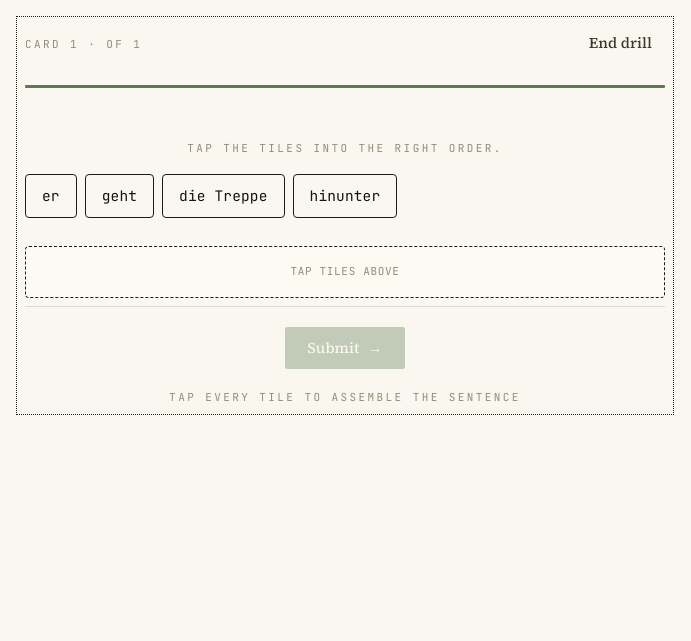
it: AssemblyRunner — tile drill › assembling the canonical order grades correct and reveals the rendered sentence + translation
Click the button "er" at coordinates (51, 196), box [25,174,77,218]
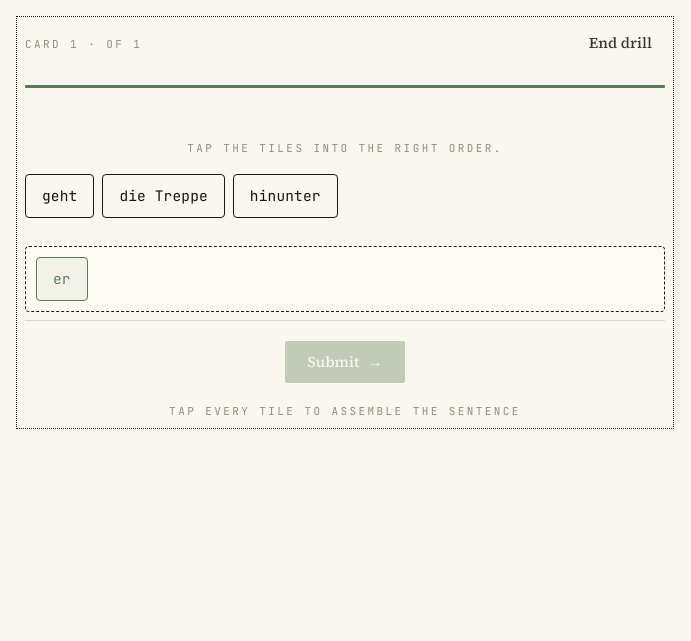
Click the button "geht" at coordinates (60, 196), box [25,174,94,218]
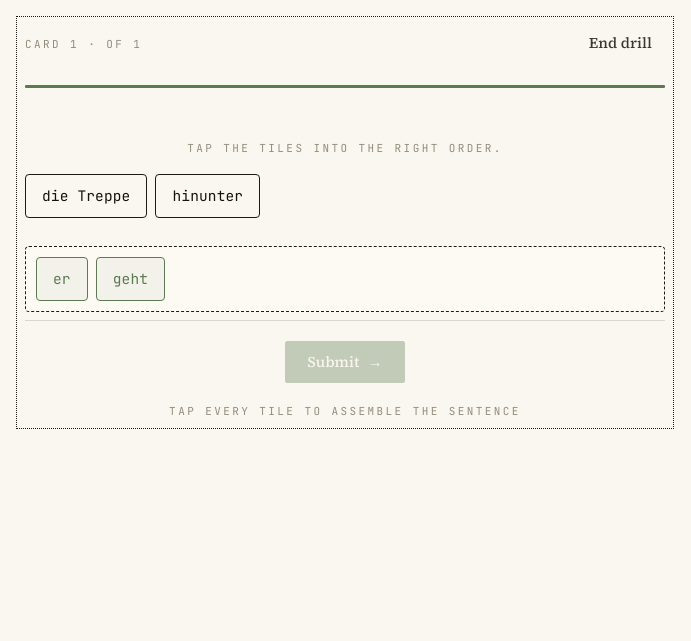
Click the button "die Treppe" at coordinates (86, 196), box [25,174,148,218]
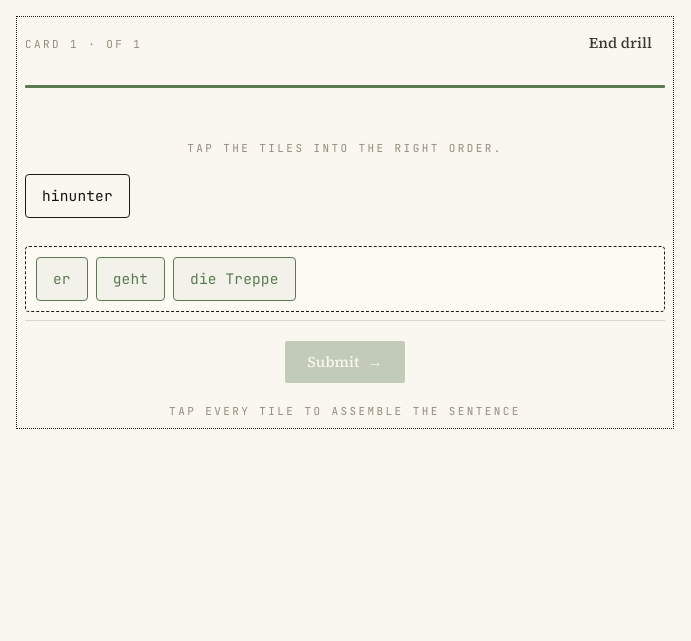
Click the button "hinunter" at coordinates (77, 196), box [25,174,130,218]
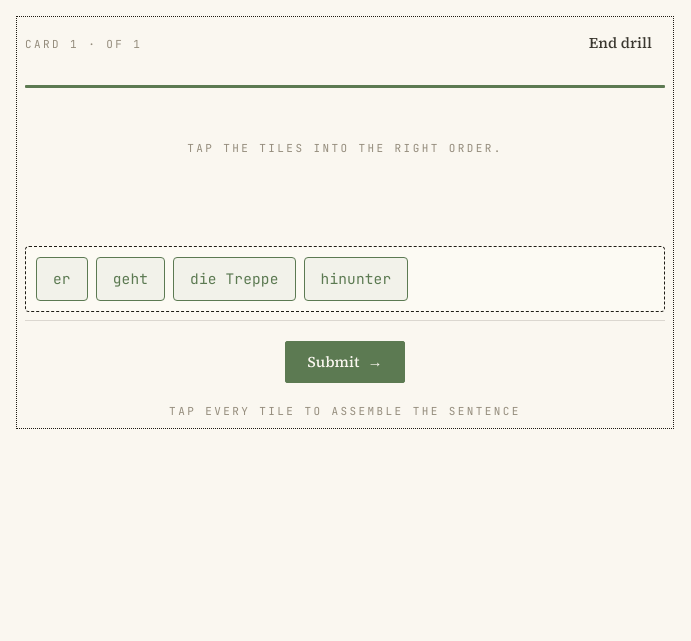
Click the button "Submit →" at coordinates (345, 362), box [285,341,405,383]
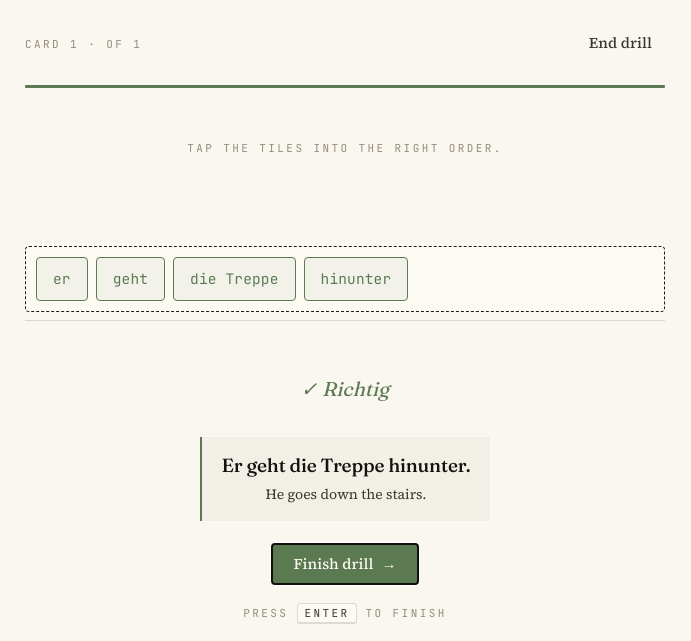
Expected: the text "✓ Richtig" is shown, [301,373,389,405]
Expected: the text "He goes down the stairs." is shown, [266,484,426,504]
